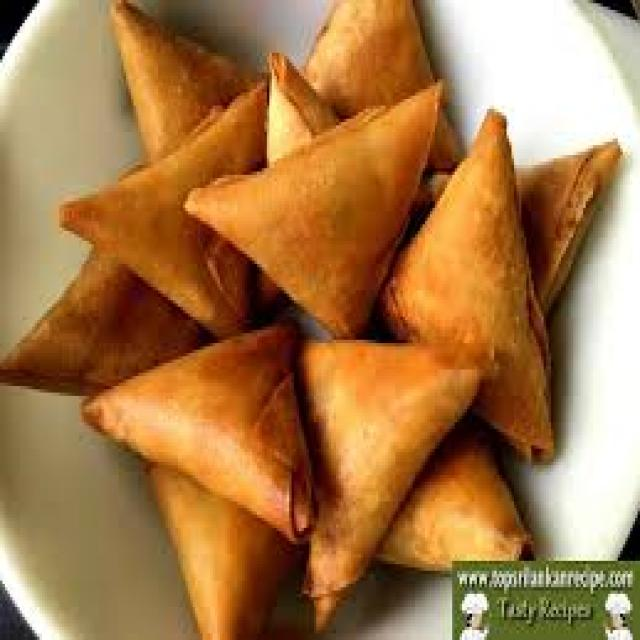SAMOSA: (188, 83, 443, 345), (383, 105, 560, 468), (299, 338, 497, 637), (58, 81, 270, 341), (84, 319, 317, 539), (0, 247, 211, 395), (303, 0, 464, 168), (104, 0, 274, 158), (144, 468, 298, 637)
